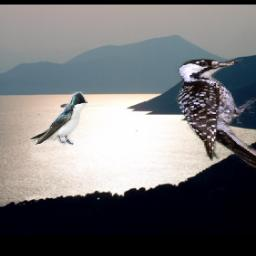Swallow: (30, 91, 89, 147)
Woodpecker: (176, 58, 256, 174)
